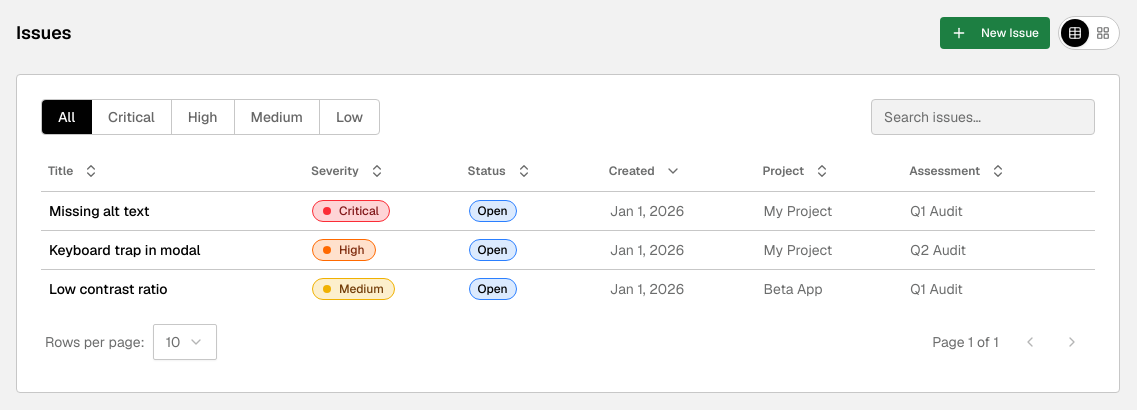
Test: IssuesListView search › filters issues by tag
Step 1. Type "keyboard" into the search field → (983, 117), box [871,99,1095,135]
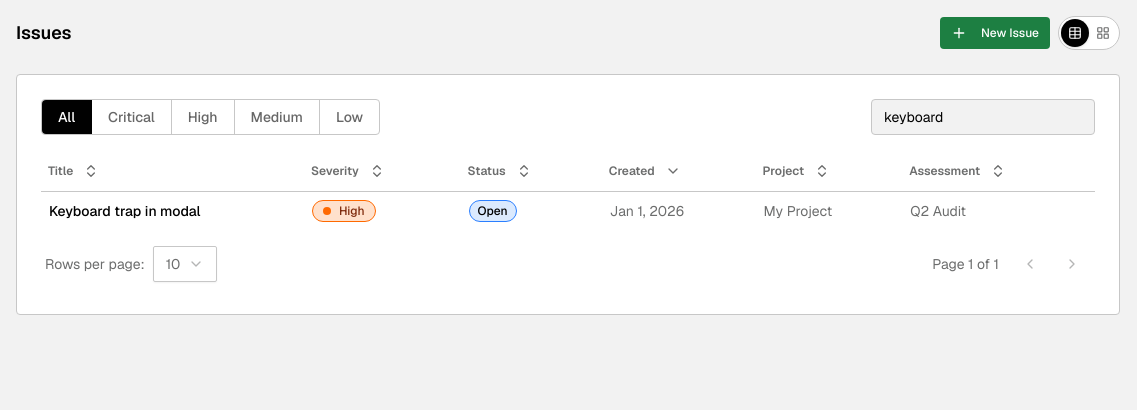
Expected: the link "Keyboard trap in modal" is shown, [49,202,200,220]
Expected: the link "Missing alt text" is gone
